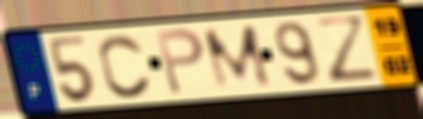5: (44, 33, 99, 106)
9: (271, 19, 323, 86)
C: (96, 32, 154, 100)
M: (200, 22, 277, 94)
P: (152, 26, 208, 98)
Z: (311, 14, 383, 87)
